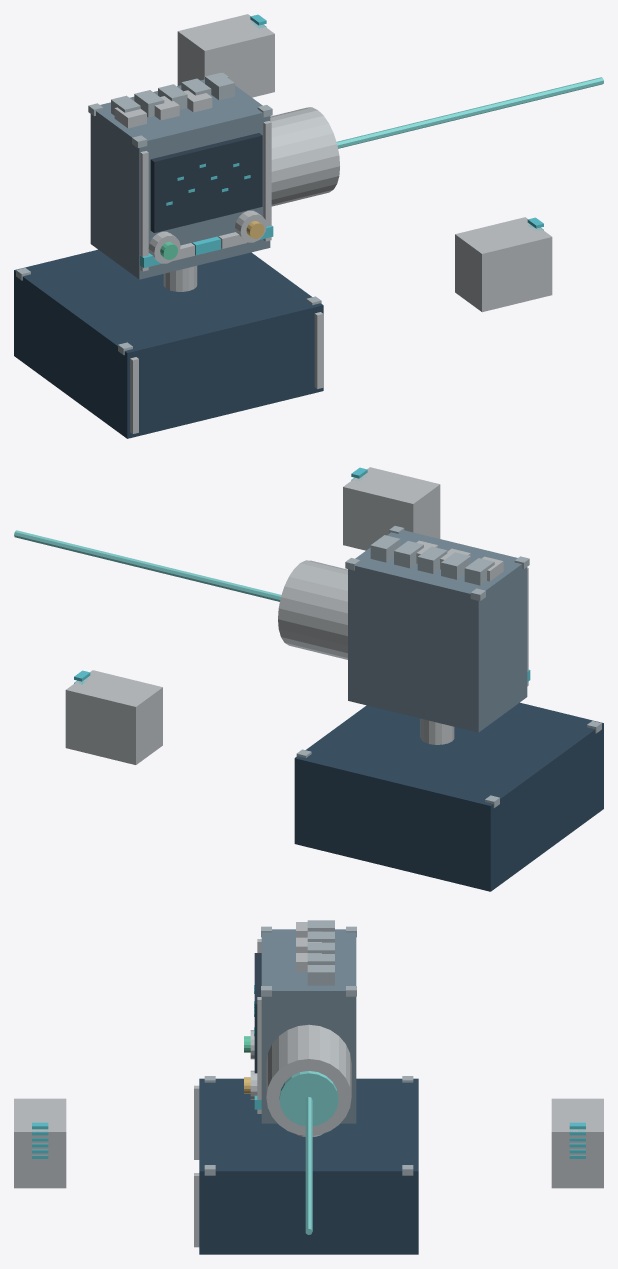
File: 28_L74_WaferStageLaserInterferometer.glb
3 views of the same model, one above another, from view 1: azimuth 30°, elevation 25°; view 2: azimuth 150°, elevation 25°; view 3: azimuth 270°, elevation 25° (orthographic). The views are drawn at different scales.
Visible parts, largest first — view 1: WaferStageLaserInterferometer_Node_0000, WaferStageLaserInterferometer_Node_0007, WaferStageLaserInterferometer_Node_0014, WaferStageLaserInterferometer_Node_0053, WaferStageLaserInterferometer_Node_0046, WaferStageLaserInterferometer_Node_0043, WaferStageLaserInterferometer_Node_0045, WaferStageLaserInterferometer_Node_0012, WaferStageLaserInterferometer_Node_0013, WaferStageLaserInterferometer_Node_0006, WaferStageLaserInterferometer_Node_0041, WaferStageLaserInterferometer_Node_0005 (+3 smaller); view 2: WaferStageLaserInterferometer_Node_0000, WaferStageLaserInterferometer_Node_0007, WaferStageLaserInterferometer_Node_0046, WaferStageLaserInterferometer_Node_0053, WaferStageLaserInterferometer_Node_0043, WaferStageLaserInterferometer_Node_0045, WaferStageLaserInterferometer_Node_0041, WaferStageLaserInterferometer_Node_0035, WaferStageLaserInterferometer_Node_0032, WaferStageLaserInterferometer_Node_0031, WaferStageLaserInterferometer_Node_0033, WaferStageLaserInterferometer_Node_0034; view 3: WaferStageLaserInterferometer_Node_0000, WaferStageLaserInterferometer_Node_0007, WaferStageLaserInterferometer_Node_0043, WaferStageLaserInterferometer_Node_0046, WaferStageLaserInterferometer_Node_0053, WaferStageLaserInterferometer_Node_0044, WaferStageLaserInterferometer_Node_0045, WaferStageLaserInterferometer_Node_0014, WaferStageLaserInterferometer_Node_0035, WaferStageLaserInterferometer_Node_0013, WaferStageLaserInterferometer_Node_0005, WaferStageLaserInterferometer_Node_0006.
Boxes of the visible parts, x1,y1,x2,y2 form: WaferStageLaserInterferometer_Node_0000: (14, 249, 323, 438); WaferStageLaserInterferometer_Node_0007: (90, 79, 270, 279); WaferStageLaserInterferometer_Node_0014: (150, 133, 262, 232); WaferStageLaserInterferometer_Node_0053: (455, 217, 552, 312); WaferStageLaserInterferometer_Node_0046: (177, 14, 274, 97); WaferStageLaserInterferometer_Node_0043: (270, 107, 339, 206); WaferStageLaserInterferometer_Node_0045: (336, 77, 603, 148); WaferStageLaserInterferometer_Node_0012: (140, 151, 148, 271); WaferStageLaserInterferometer_Node_0013: (263, 121, 271, 241); WaferStageLaserInterferometer_Node_0006: (314, 312, 323, 388); WaferStageLaserInterferometer_Node_0041: (163, 265, 197, 291); WaferStageLaserInterferometer_Node_0005: (130, 357, 138, 433); WaferStageLaserInterferometer_Node_0000: (294, 702, 603, 891); WaferStageLaserInterferometer_Node_0007: (348, 530, 527, 732); WaferStageLaserInterferometer_Node_0046: (65, 670, 162, 764); WaferStageLaserInterferometer_Node_0053: (343, 467, 440, 550); WaferStageLaserInterferometer_Node_0043: (278, 560, 347, 659); WaferStageLaserInterferometer_Node_0045: (14, 530, 281, 601); WaferStageLaserInterferometer_Node_0041: (420, 718, 454, 744); WaferStageLaserInterferometer_Node_0035: (370, 535, 400, 562); WaferStageLaserInterferometer_Node_0032: (441, 552, 470, 579); WaferStageLaserInterferometer_Node_0031: (464, 558, 494, 585); WaferStageLaserInterferometer_Node_0033: (417, 546, 447, 573); WaferStageLaserInterferometer_Node_0034: (394, 541, 423, 568); WaferStageLaserInterferometer_Node_0000: (199, 1078, 418, 1254); WaferStageLaserInterferometer_Node_0007: (261, 929, 356, 1123); WaferStageLaserInterferometer_Node_0043: (266, 1024, 351, 1135); WaferStageLaserInterferometer_Node_0046: (551, 1098, 603, 1188); WaferStageLaserInterferometer_Node_0053: (14, 1098, 66, 1188); WaferStageLaserInterferometer_Node_0044: (279, 1071, 338, 1126); WaferStageLaserInterferometer_Node_0045: (305, 1097, 312, 1234); WaferStageLaserInterferometer_Node_0014: (254, 953, 261, 1073); WaferStageLaserInterferometer_Node_0035: (307, 965, 334, 985); WaferStageLaserInterferometer_Node_0013: (257, 997, 261, 1113); WaferStageLaserInterferometer_Node_0005: (194, 1085, 199, 1159); WaferStageLaserInterferometer_Node_0006: (194, 1173, 199, 1247).
Bounding box in the file's own units: 1.82 × 0.8974 × 1.8.
